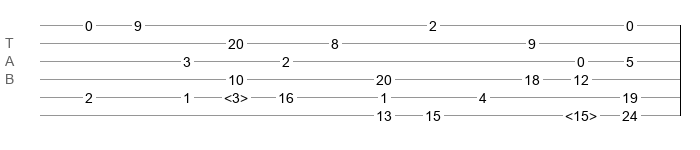0: (85, 18, 93, 28), (577, 54, 585, 64), (626, 18, 634, 28)
1: (183, 90, 191, 100), (380, 90, 388, 100)
10: (228, 72, 244, 82)
12: (573, 72, 589, 82)
13: (376, 108, 392, 118)
15: (425, 108, 441, 118)
16: (278, 90, 294, 100)
18: (524, 72, 540, 82)
19: (622, 90, 638, 100)
2: (85, 90, 93, 100), (282, 54, 290, 64), (429, 18, 437, 28)
20: (228, 36, 244, 46), (376, 72, 392, 82)
24: (622, 108, 638, 118)
3: (183, 54, 191, 64)
4: (479, 90, 487, 100)
5: (626, 54, 634, 64)
8: (331, 36, 339, 46)
9: (134, 18, 142, 28), (528, 36, 536, 46)
harmonic: (565, 108, 597, 118), (224, 90, 248, 100)
